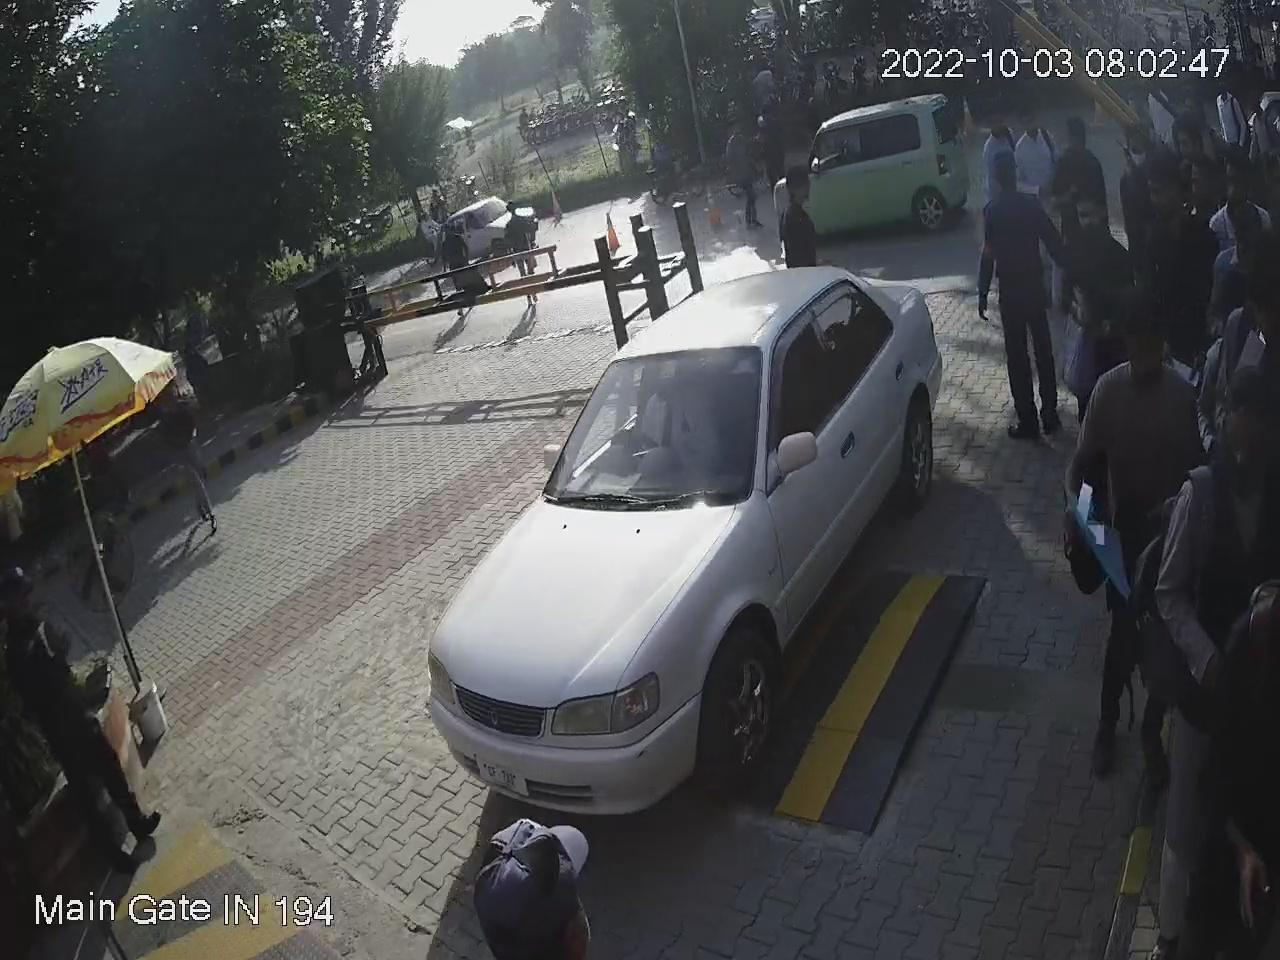windshield: (540, 333, 773, 520)
